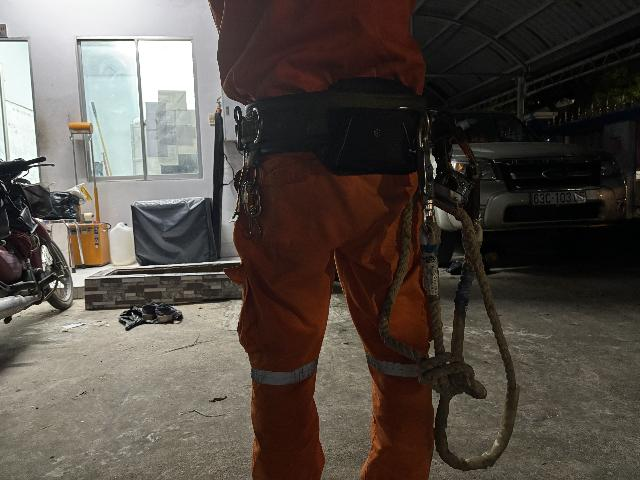harness: (207, 61, 472, 190)
